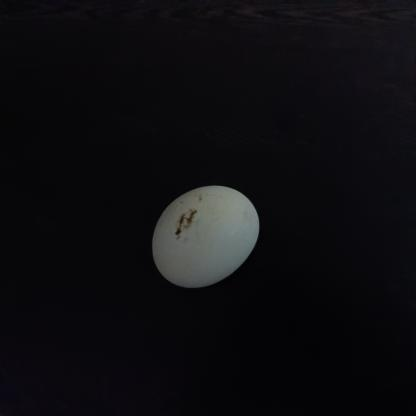egg: (146, 180, 266, 296)
